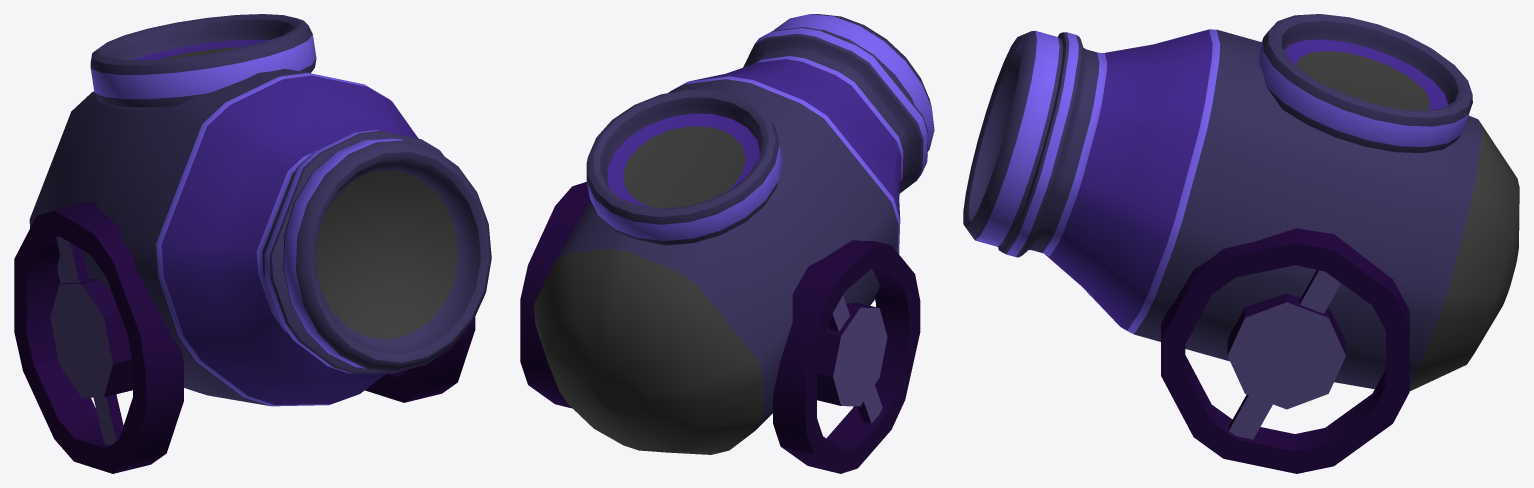
Rendered from SweetShooterCannon.fbx.
3 views of the same model, side by side, from view 1: azimuth 30°, elevation 25°; view 2: azimuth 150°, elevation 25°; view 3: azimuth 270°, elevation 25° (orthographic). The views are drawn at different scales.
Visible parts, largest first — view 1: Cannon; view 2: Cannon; view 3: Cannon.
Boxes of the visible parts, x1,y1,x2,y2 form: Cannon: (14,14,491,473); Cannon: (520,14,934,473); Cannon: (963,14,1519,473).
Bounding box in the file's own units: 225 × 251 × 350.
